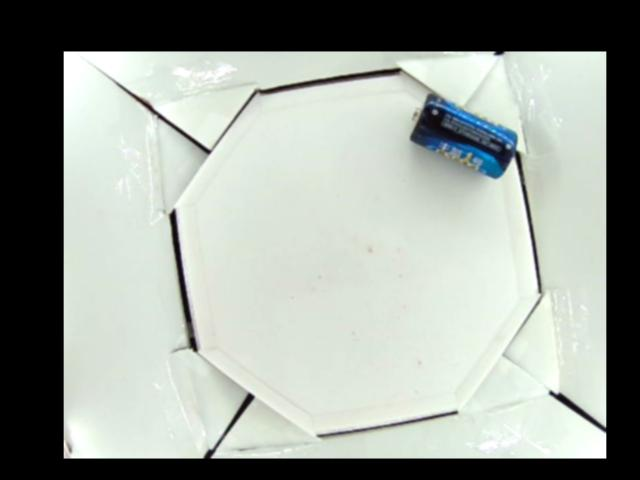Battery: (411, 93, 519, 181)
